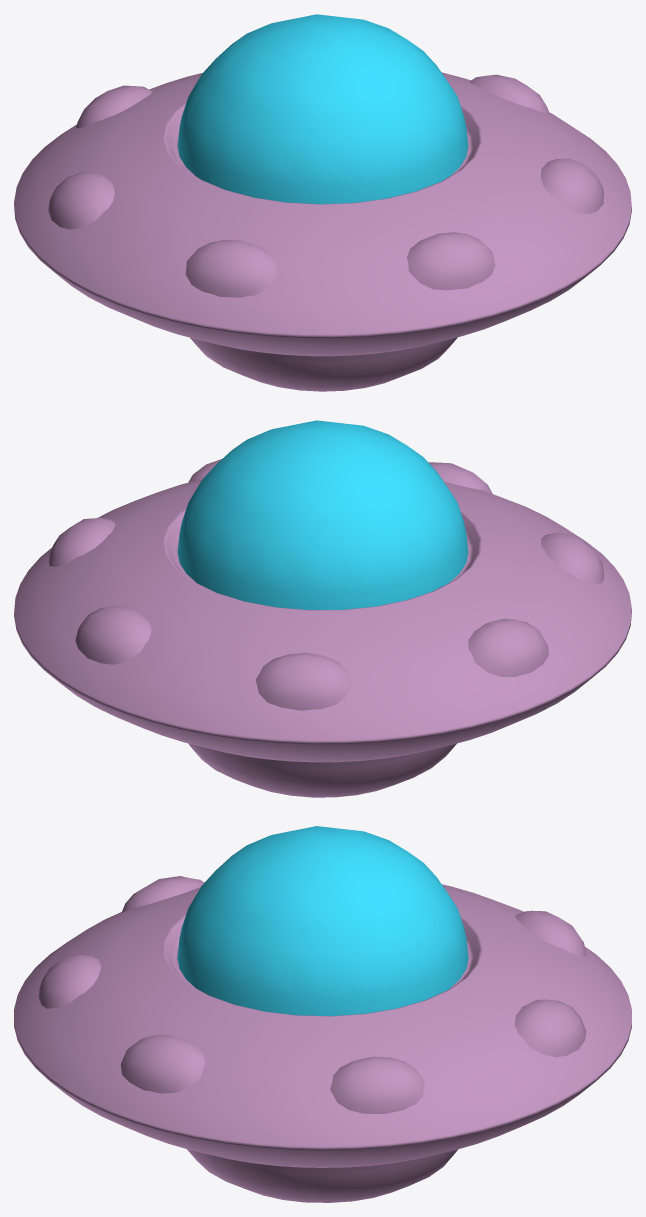
File: SM_Spaceship_01.fbx
3 views of the same model, one above another, from view 1: azimuth 30°, elevation 25°; view 2: azimuth 150°, elevation 25°; view 3: azimuth 270°, elevation 25° (orthographic).
Visible parts, largest first — view 1: Cylinder025; view 2: Cylinder025; view 3: Cylinder025.
Boxes of the visible parts, box(x1,y1,x2,y2) form: Cylinder025: box(14, 14, 631, 391); Cylinder025: box(14, 420, 631, 797); Cylinder025: box(14, 826, 631, 1202).
Bounding box in the file's own units: 197 × 117 × 197.
